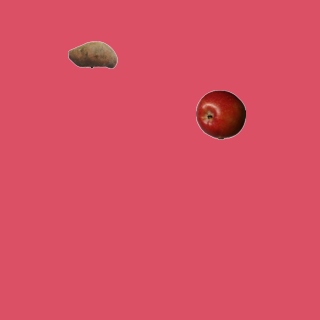Apple Braeburn: (195, 89, 245, 139)
Potato Sweet: (67, 29, 117, 79)
